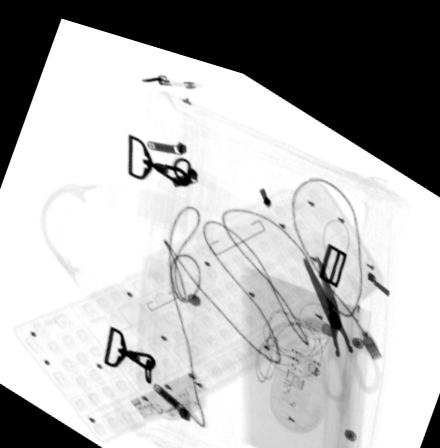Scissors: (301, 236, 385, 381)
